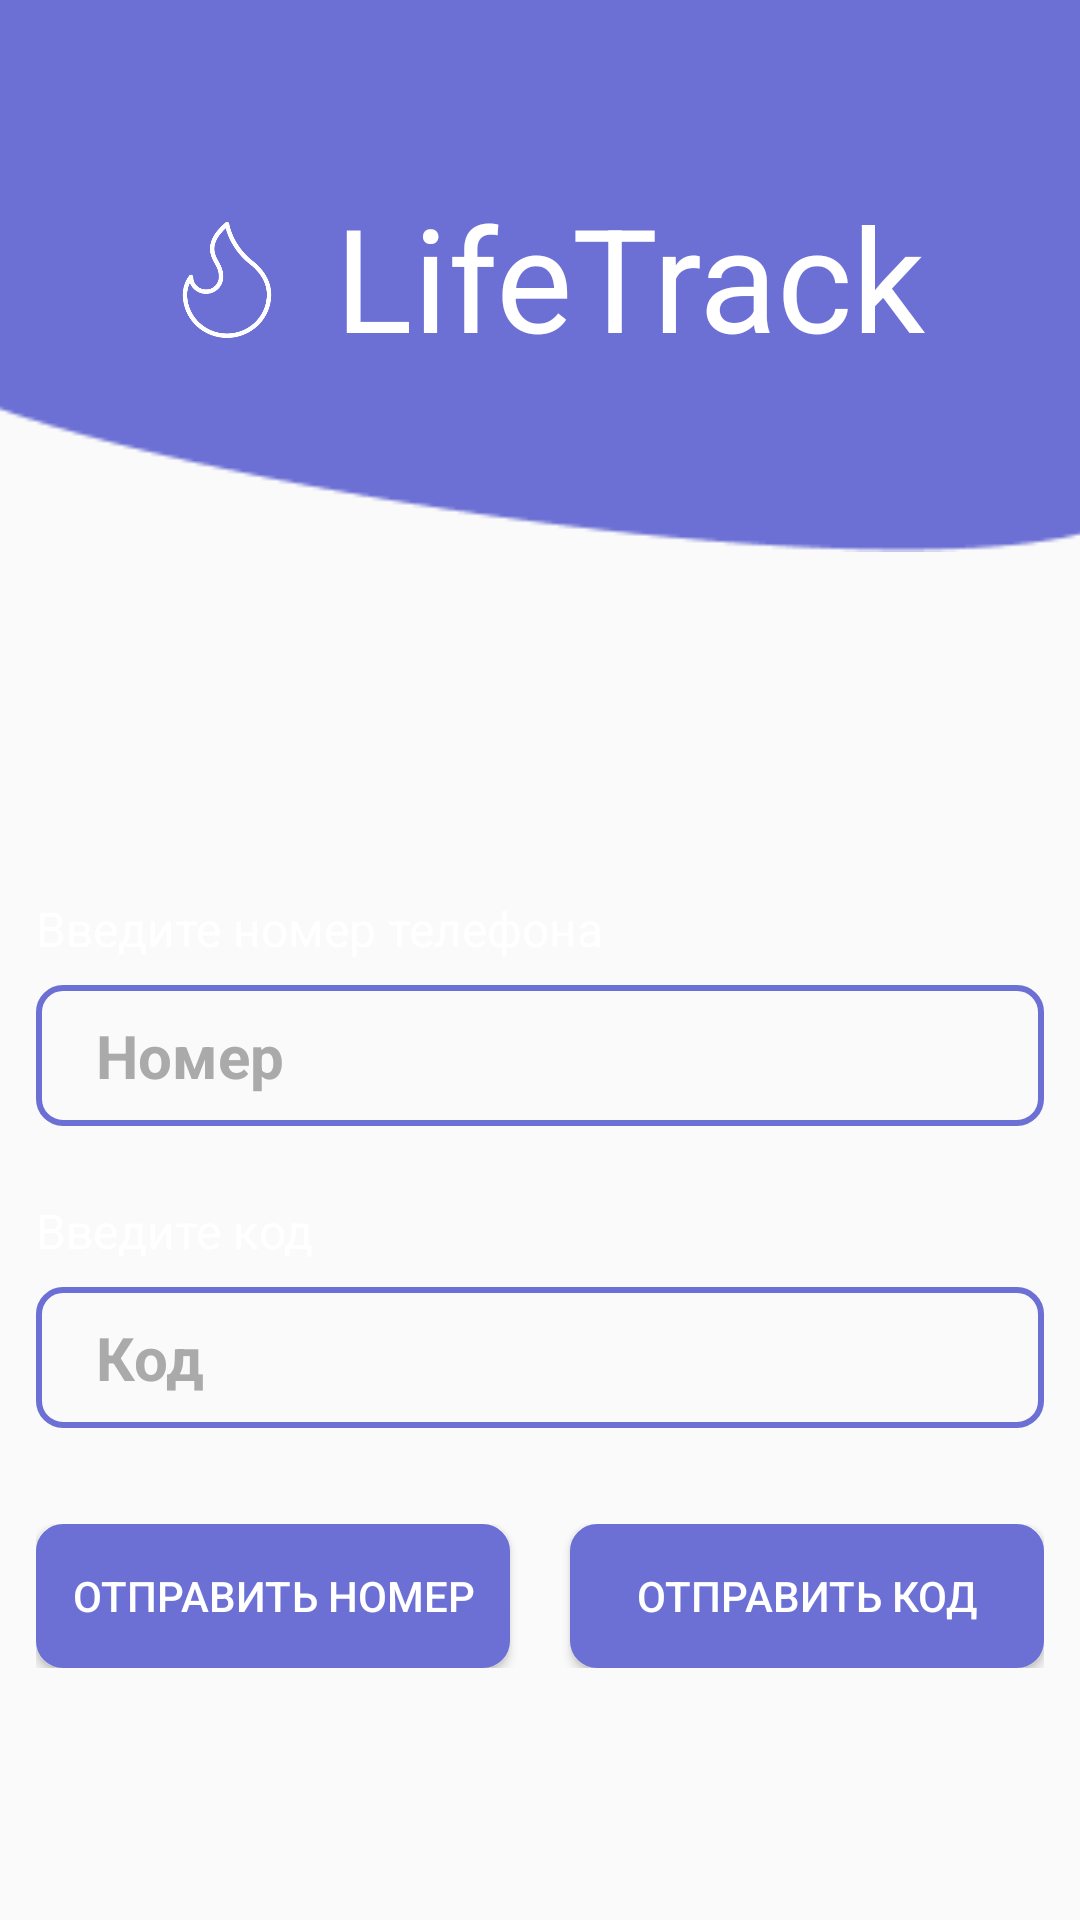

Locate icon controls on the screen. Image size 1080px×1920px, boxes as box(x1, y1, x2, y2).
flame: box(183, 222, 271, 338)
